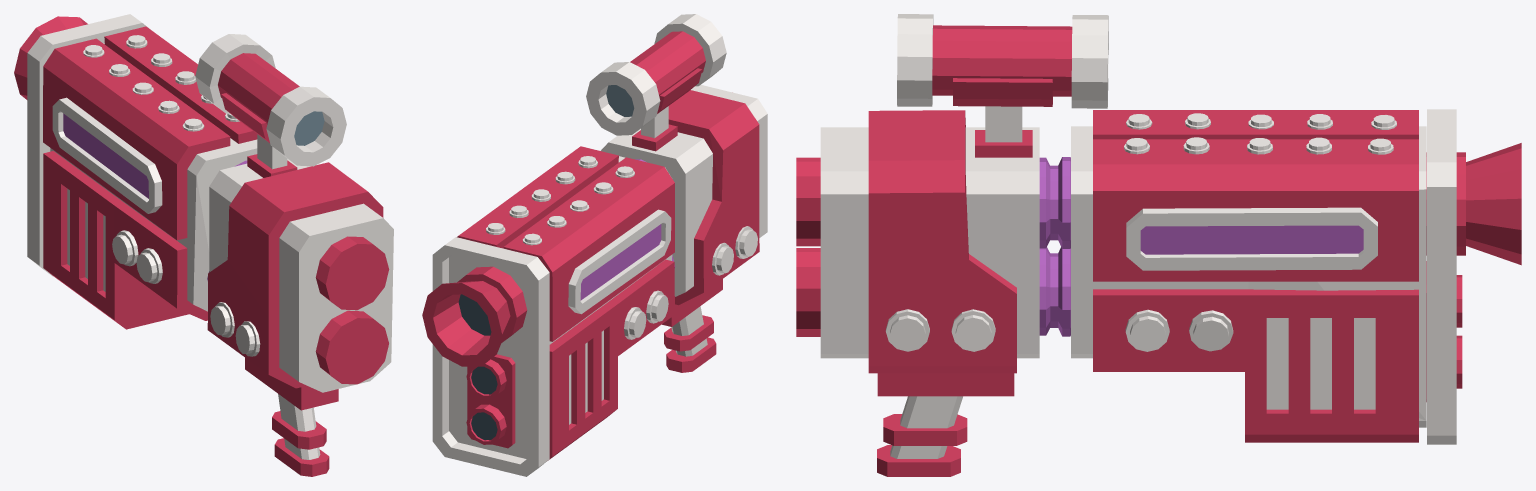
File: gun.fbx
3 views of the same model, side by side, from view 1: azimuth 30°, elevation 25°; view 2: azimuth 150°, elevation 25°; view 3: azimuth 270°, elevation 25° (orthographic). The views are drawn at different scales.
Parts seen in each view (by area): view 1: model; view 2: model; view 3: model.
Part boxes in pixels (box(x1,y1,x2,y2)): model: box(14, 14, 393, 476); model: box(422, 14, 767, 476); model: box(796, 14, 1521, 476).
Bounding box in the file's own units: 36.33 × 94.97 × 138.
